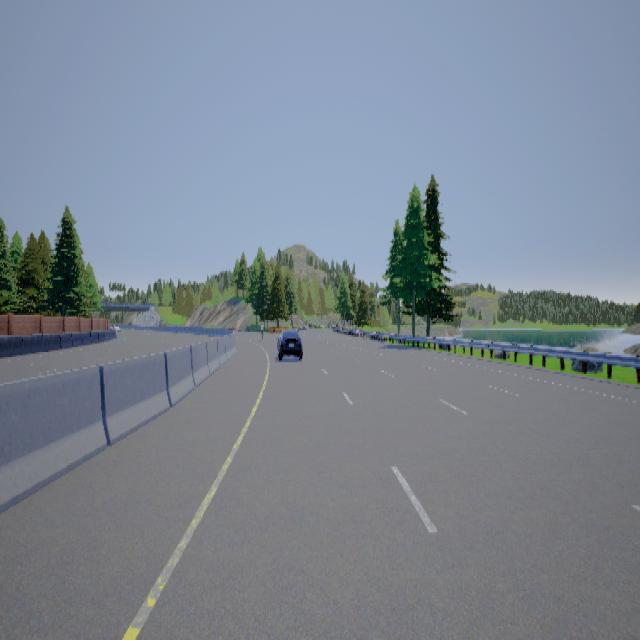vehicle: (275, 328, 302, 359)
